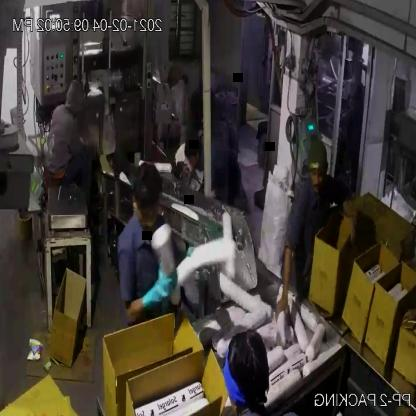glove: (139, 256, 181, 322)
no_glove: (274, 235, 302, 334)
